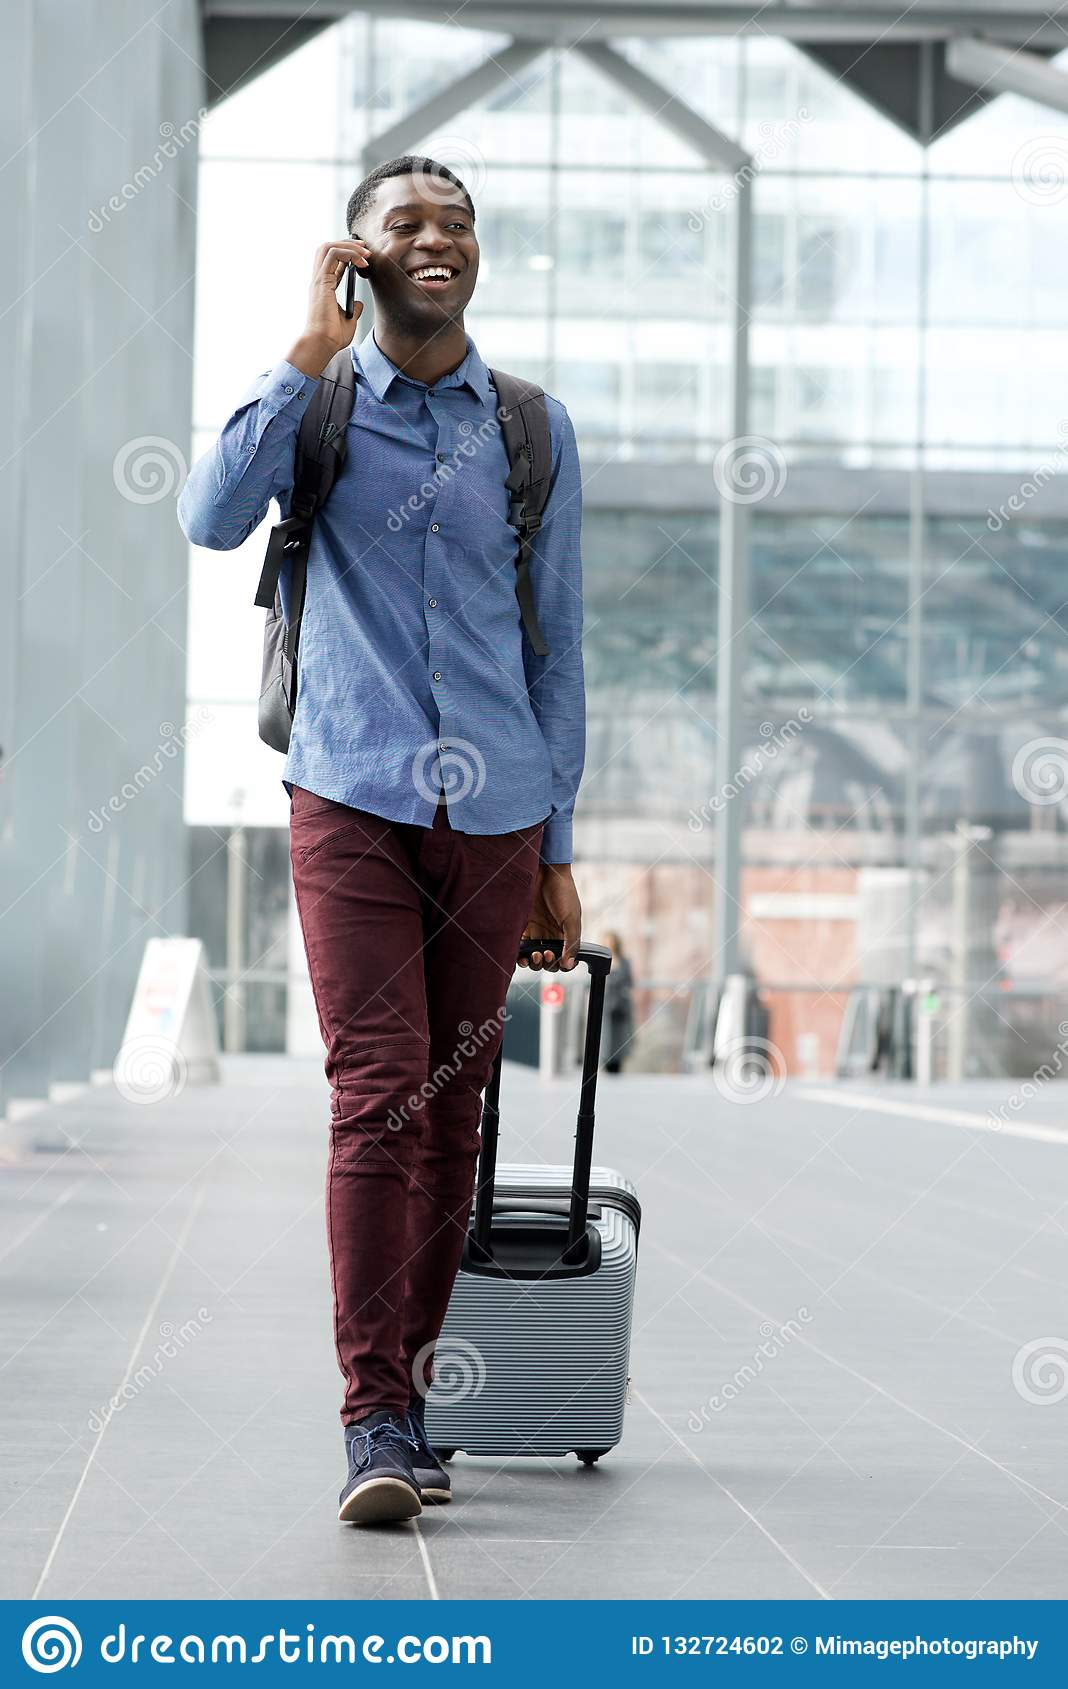phone: (338, 228, 364, 328)
talk: (306, 196, 475, 344)
